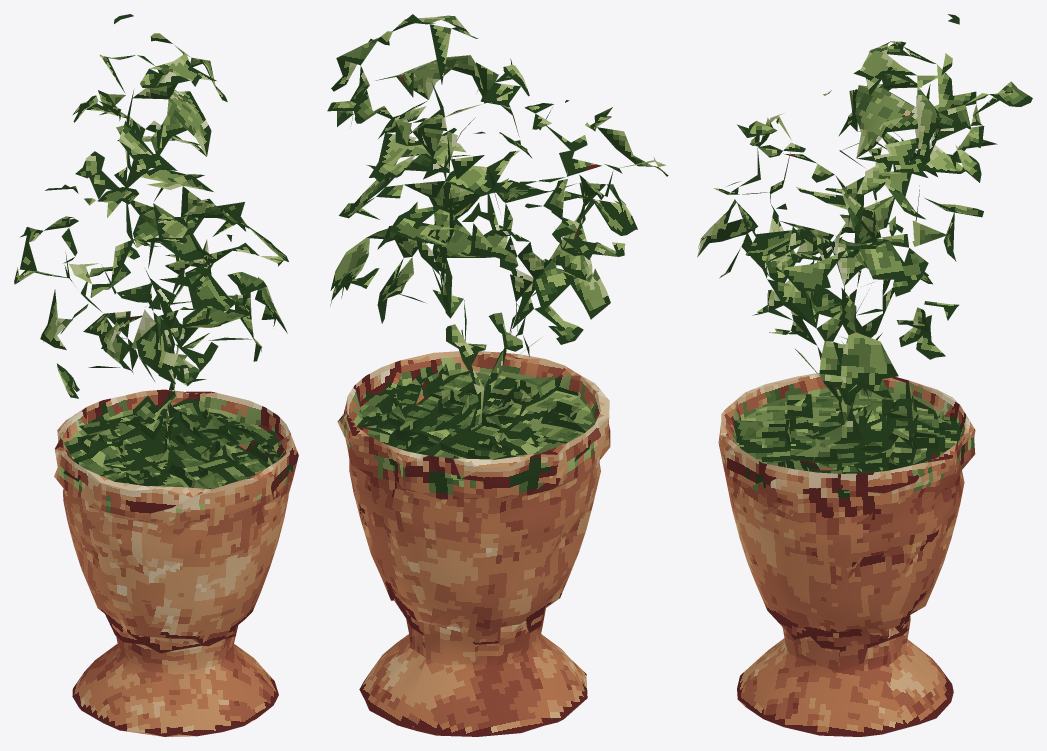
The model's file is potted_plant_01.glb.
The picture shows the model from 3 angles, left to right: view 1: azimuth 30°, elevation 25°; view 2: azimuth 150°, elevation 25°; view 3: azimuth 270°, elevation 25°; orthographic projection. The views are drawn at different scales.
Visible parts, largest first — view 1: mesh; view 2: mesh; view 3: mesh.
Boxes of the visible parts, x1,y1,x2,y2 form: mesh: (14,14,298,736); mesh: (327,14,668,736); mesh: (697,14,1032,736).
Bounding box in the file's own units: 0.5757 × 1.35 × 0.6087.
Materials: 1 (1 with a texture image).
